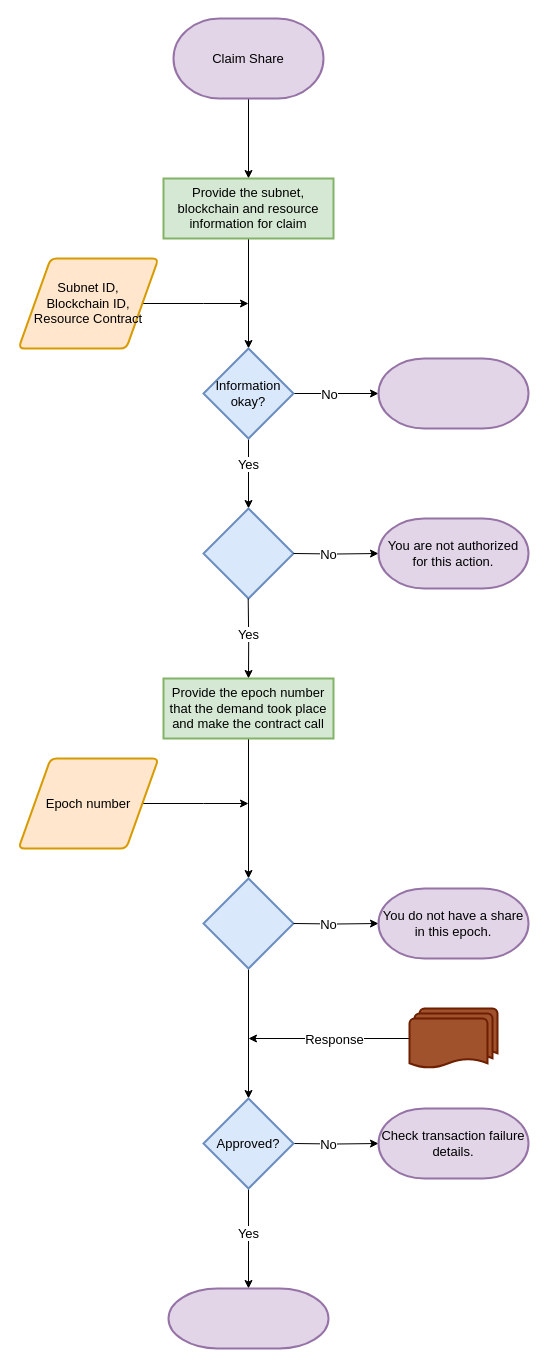
This 546x1366 diagram has some shape labels left out. Here are the shapes that lost their labels. From the top down, the centre of each, then its label:
point (453, 393): Subnet, blockchain or resource does not exist.
point (248, 553): Is user permissioned?
point (248, 923): User has share?
point (453, 1038): Smart Contract
point (248, 1318): Claim successful
